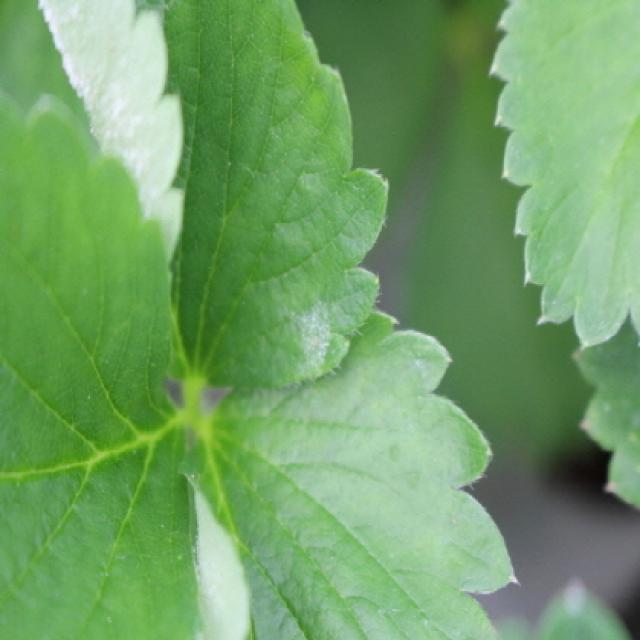powdery_mildew_leaf: (38, 0, 393, 389), (184, 304, 520, 638)
